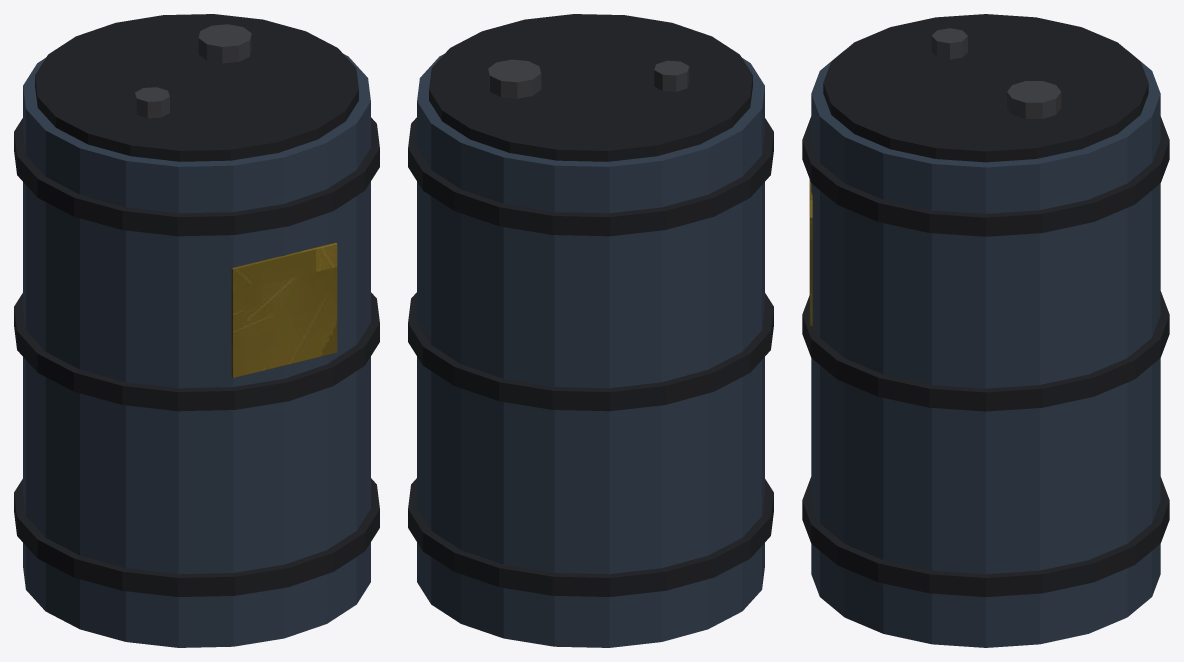
File: barrel.glb
The picture shows the model from 3 angles, left to right: view 1: azimuth 30°, elevation 25°; view 2: azimuth 150°, elevation 25°; view 3: azimuth 270°, elevation 25°; orthographic projection.
Visible parts, largest first — view 1: body; view 2: body; view 3: body.
Boxes of the visible parts, left/top/right/bottom form: body: left=14, top=14, right=379, bottom=647; body: left=408, top=14, right=773, bottom=647; body: left=802, top=14, right=1169, bottom=647.
Size of the model in its own units: 0.61 by 0.93 by 0.61.
4 materials, 4 textured.
